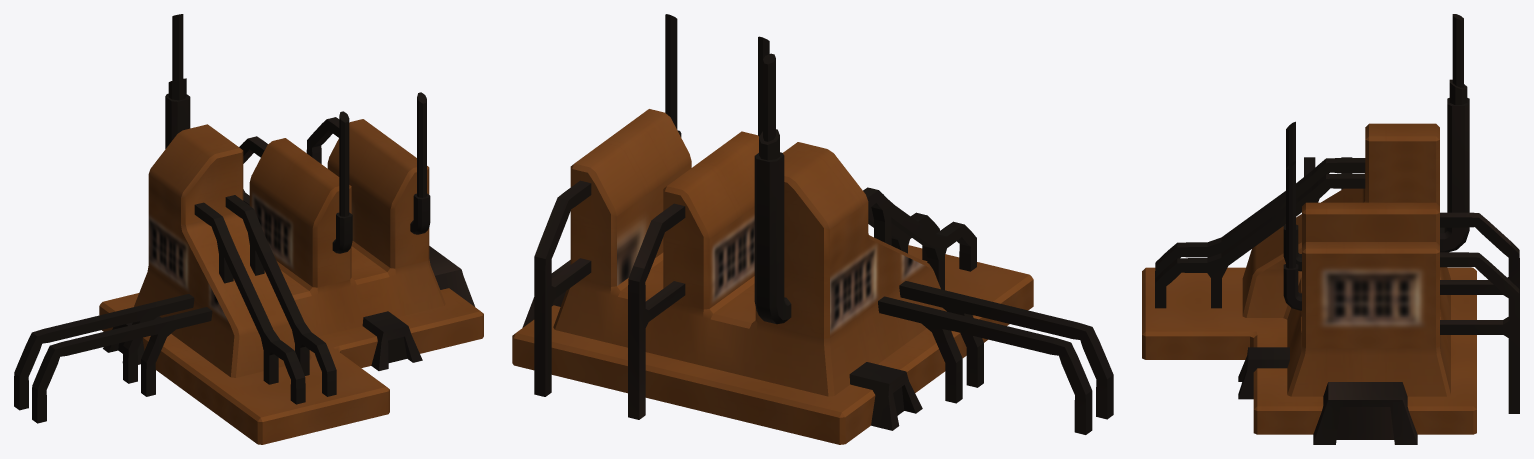
Rendered from steampunkgebouw3.fbx.
3 views of the same model, side by side, from view 1: azimuth 30°, elevation 25°; view 2: azimuth 150°, elevation 25°; view 3: azimuth 270°, elevation 25° (orthographic). The views are drawn at different scales.
Parts seen in each view (by area): view 1: Industry.014; view 2: Industry.014; view 3: Industry.014.
Boxes of the visible parts, x1,y1,x2,y2 form: Industry.014: (14,14,483,444); Industry.014: (512,14,1113,444); Industry.014: (1142,14,1519,444).
Size of the model in its own units: 1427 by 932 by 1015.
